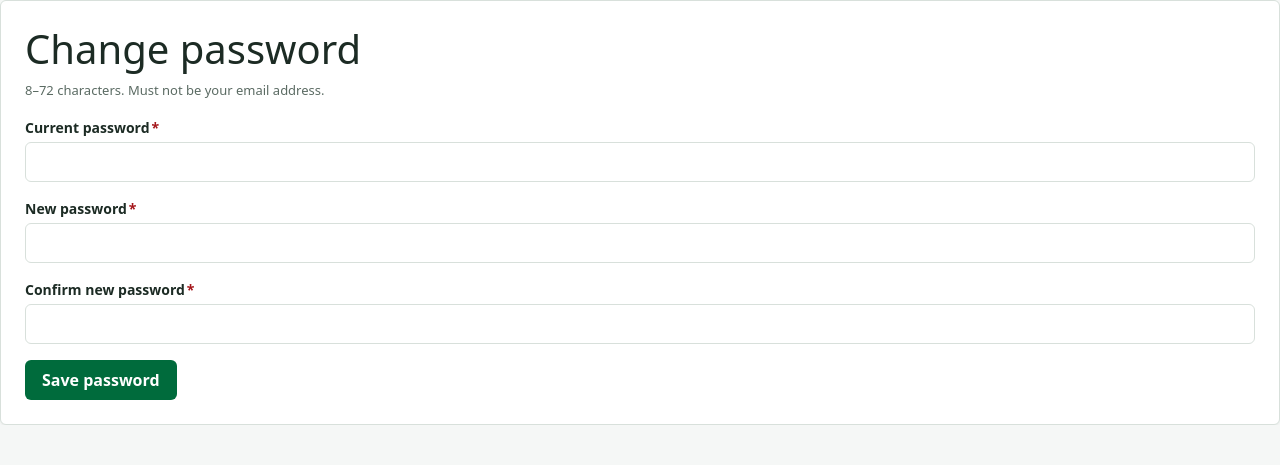
Test: UI-05 the rules, field by field › rejects equal to the email beneath its field and sends nothing
The image size is (1280, 465).
Type "Toktickit#2026" into the password field labelled "Current password*" at (640, 162), box 25,142 -> 1255,182
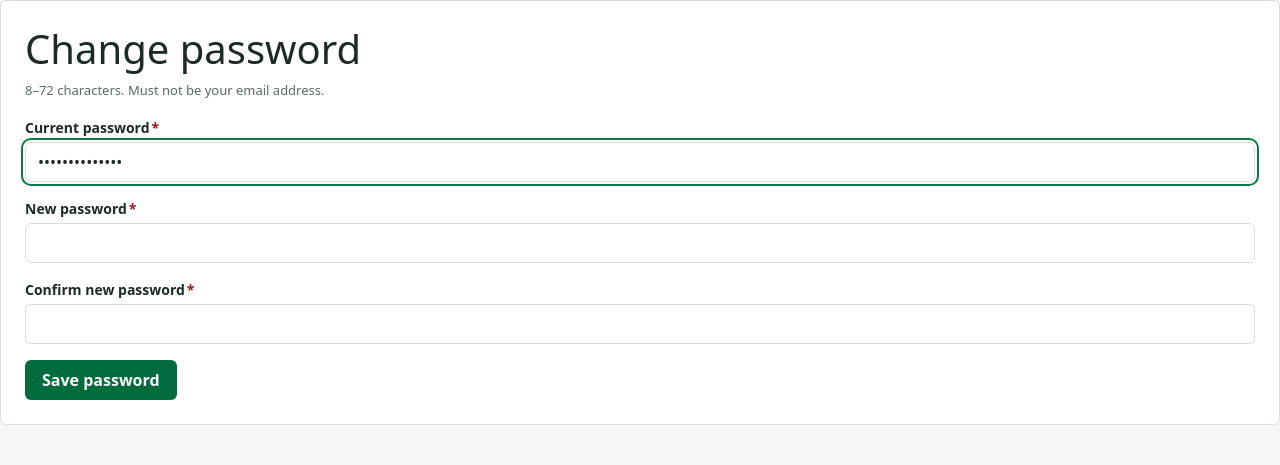
Type "first.login@toktickit.local" into the password field labelled "New password*" at (640, 242), box 25,222 -> 1255,262
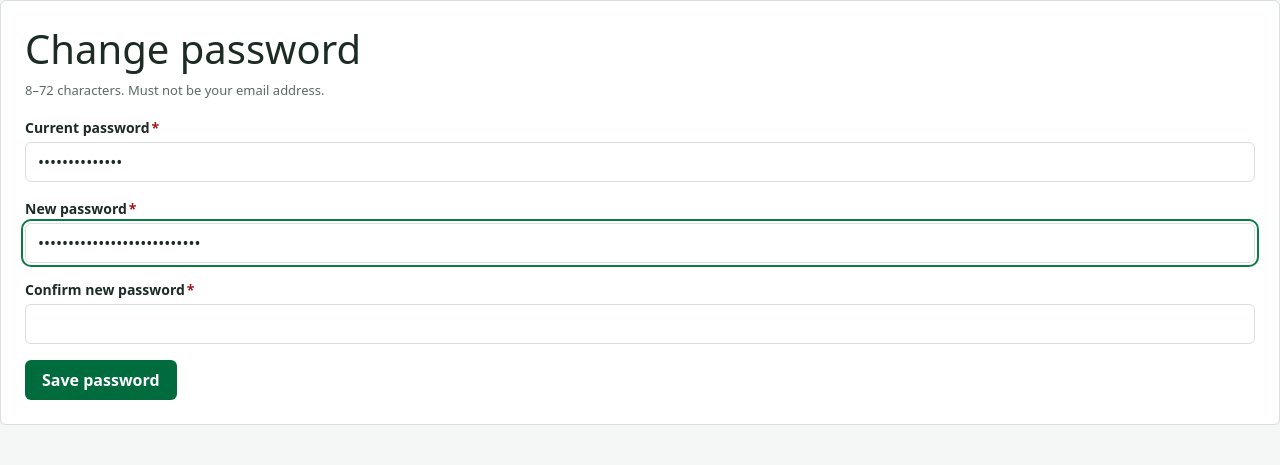
Type "first.login@toktickit.local" into the password field labelled "Confirm new password*" at (640, 324), box 25,304 -> 1255,344
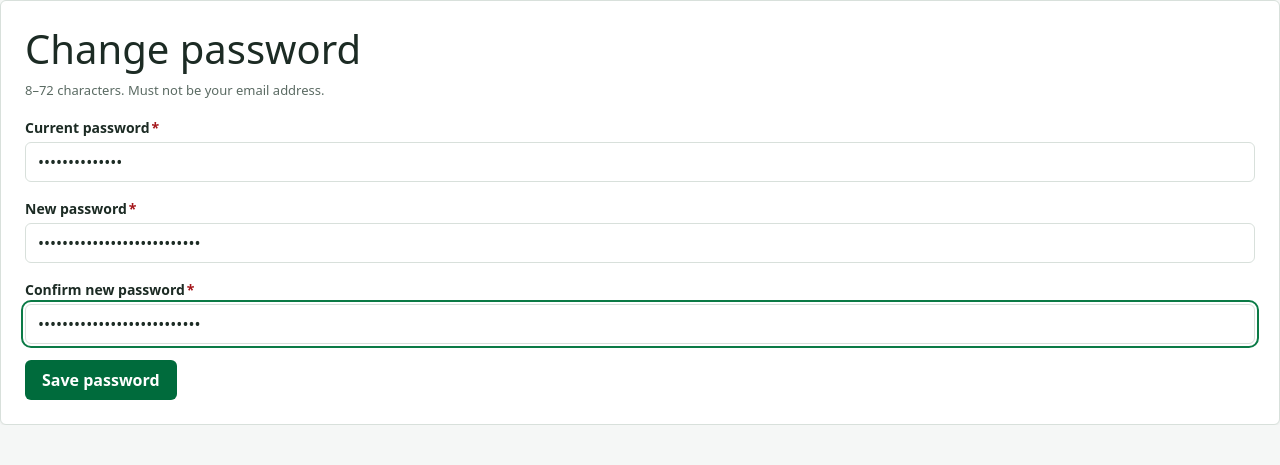
Click the button "Save password" at (101, 380), box 25,360 -> 177,400
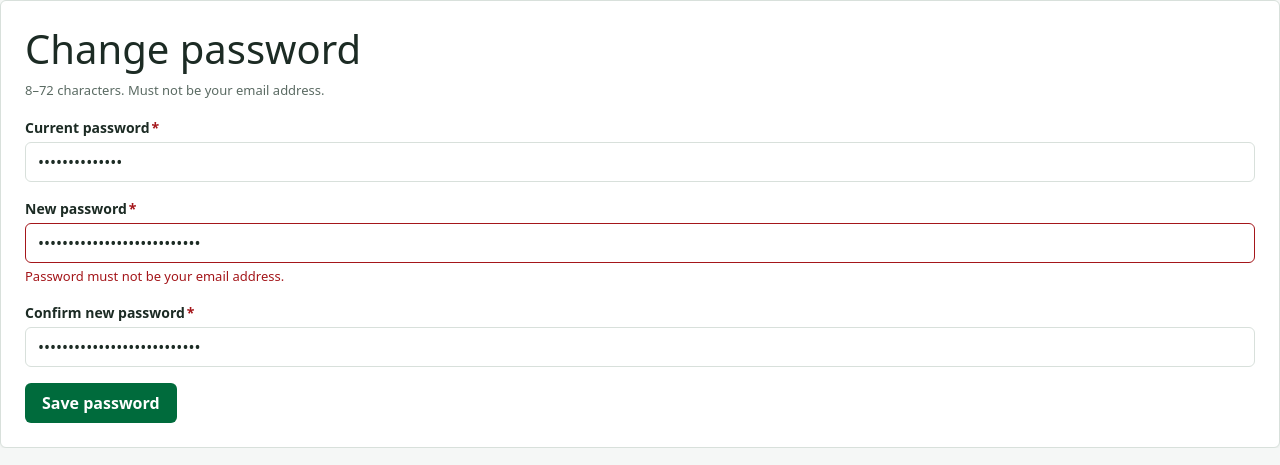
Result: the text "Password must not be your email address." is shown at 25,266 -> 284,284
